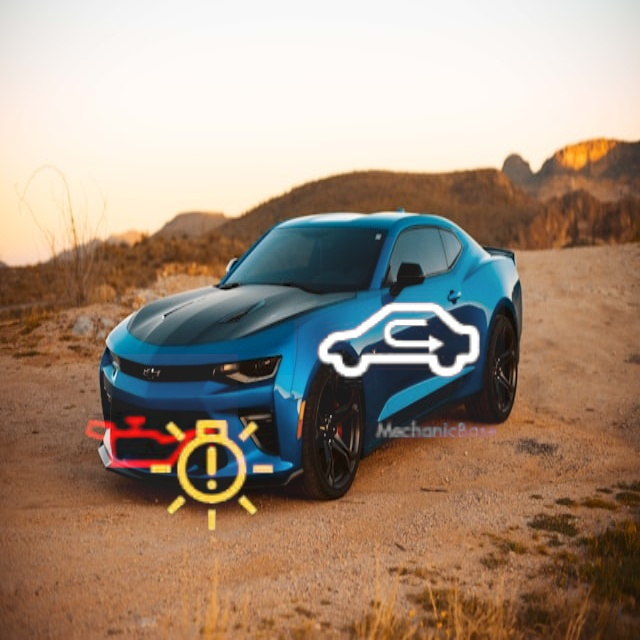symbol: (294, 237, 505, 448), (112, 375, 316, 579), (60, 354, 238, 532)
